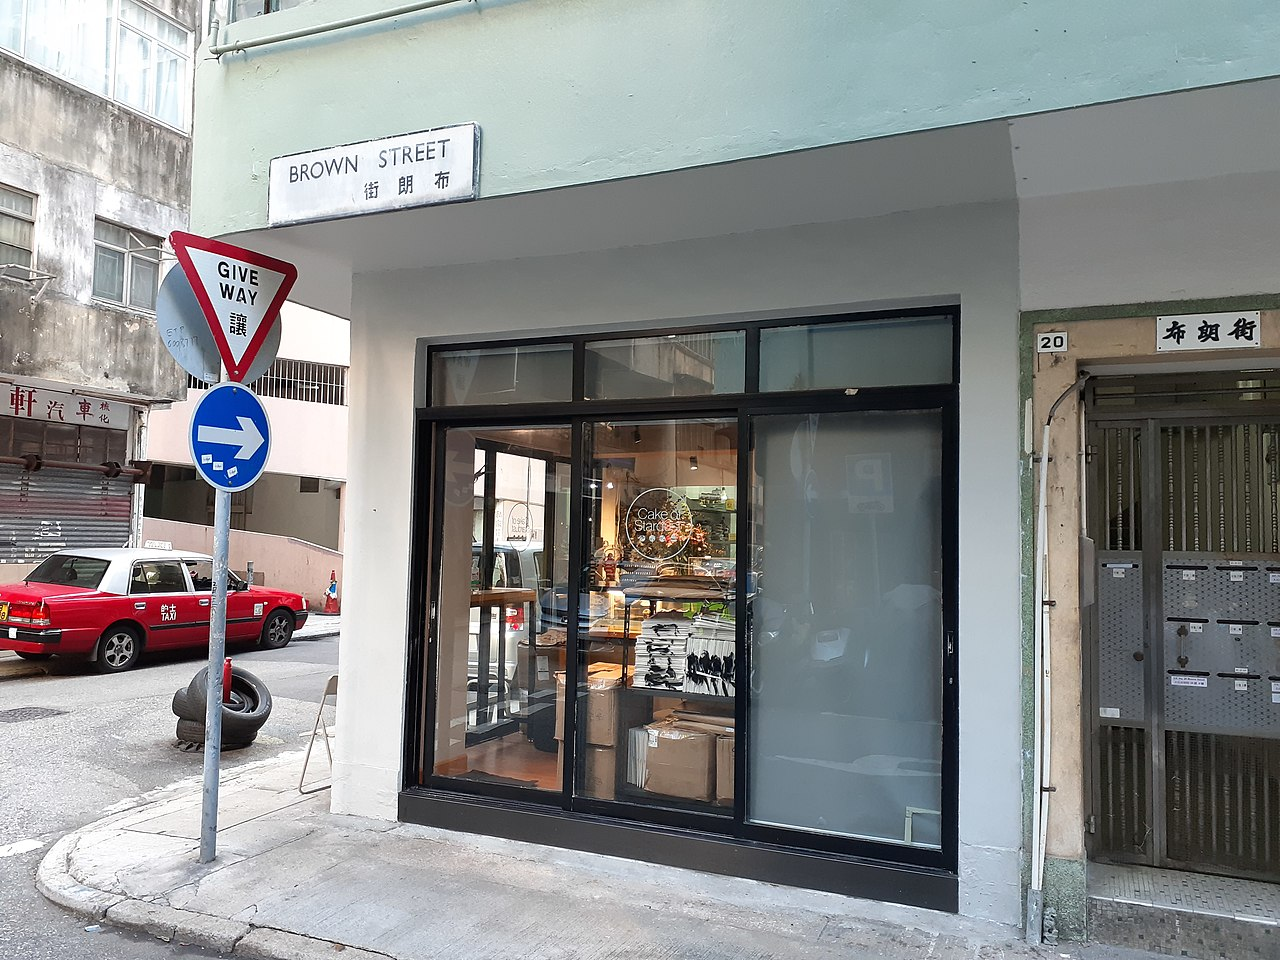Give Way: (164, 232, 312, 383)
Turn Right: (191, 385, 272, 495)
